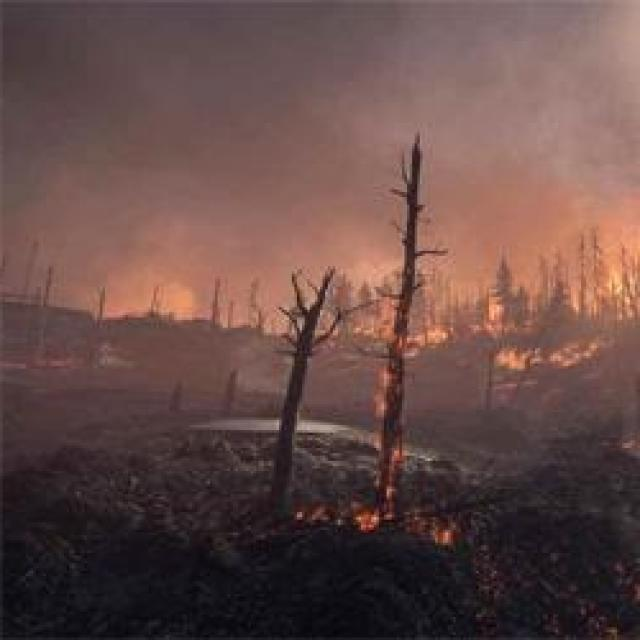fire: (575, 278, 633, 320), (400, 320, 454, 350)
smoke: (3, 0, 134, 97), (322, 192, 394, 280)
